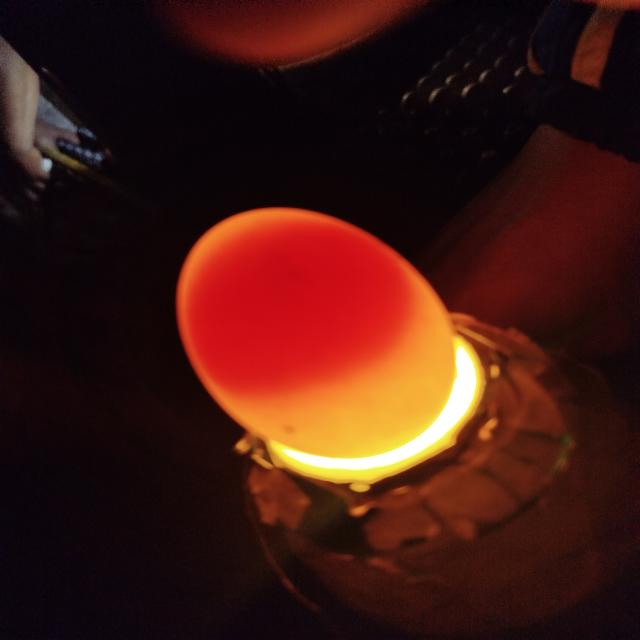Gema Quebrada: (182, 218, 412, 400)
